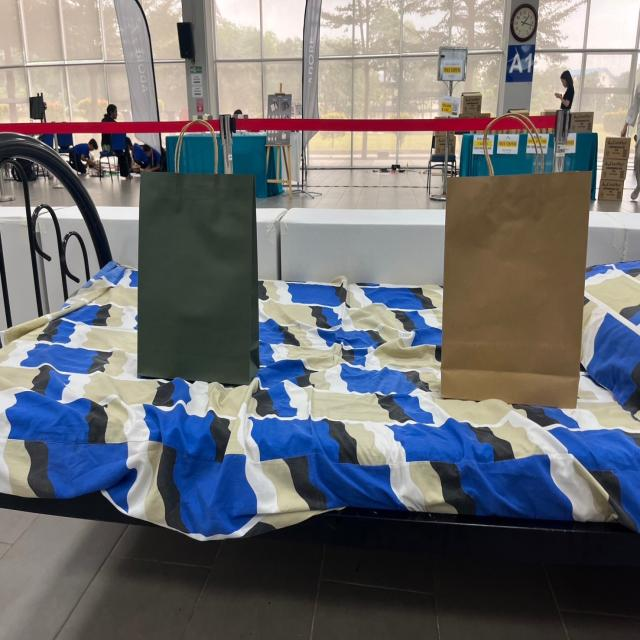bag: (450, 104, 584, 390), (143, 115, 248, 376)
